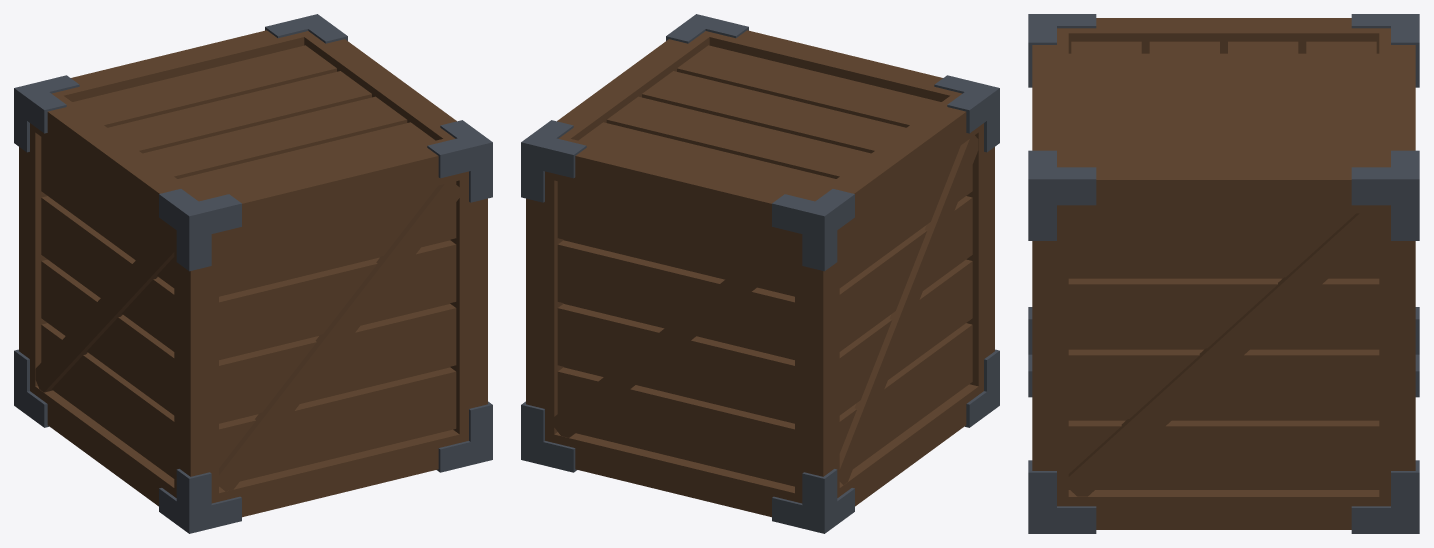
Rendered from Crate.fbx.
3 renders of one model, left to right at view 1: azimuth 30°, elevation 25°; view 2: azimuth 150°, elevation 25°; view 3: azimuth 270°, elevation 25°, orthographic. The views are drawn at different scales.
Parts seen in each view (by area): view 1: Crate_Wood, Crate_Iron; view 2: Crate_Wood, Crate_Iron; view 3: Crate_Wood, Crate_Iron.
Boxes of the visible parts, x1,y1,x2,y2 form: Crate_Wood: (19,30,487,517); Crate_Iron: (14,14,492,533); Crate_Wood: (526,30,994,517); Crate_Iron: (521,14,999,533); Crate_Wood: (1032,18,1415,529); Crate_Iron: (1028,14,1419,533).
Bounding box in the file's own units: 3 × 3 × 3.
